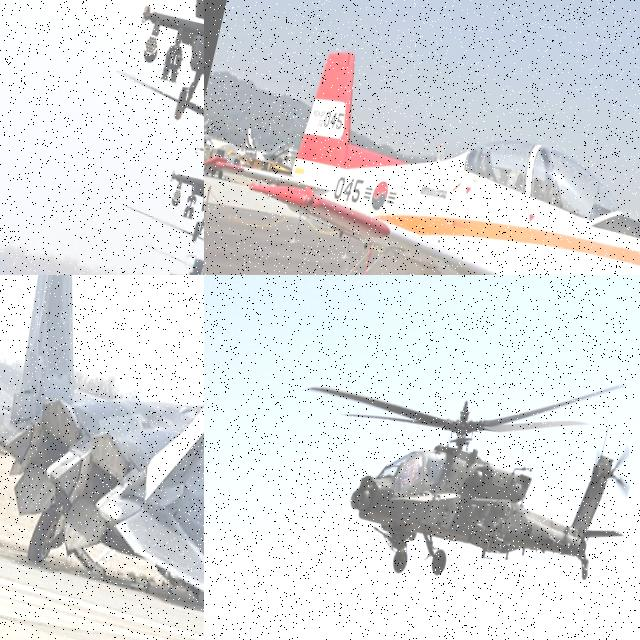Apache: (272, 317, 640, 615), (10, 0, 204, 164), (94, 68, 204, 275)
F22: (0, 275, 204, 640)
KT-1: (204, 31, 640, 275)
